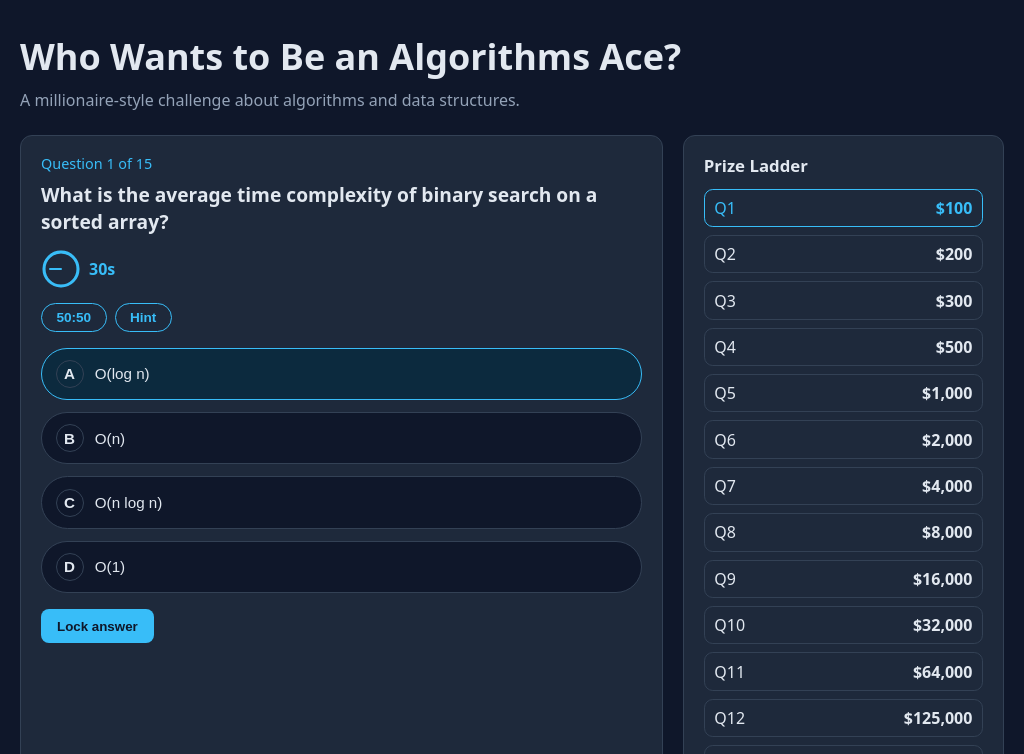
Scenario: AlgorithmsQuizPage › advances when the correct answer is locked
expect the heading "average time complexity of binary search" is shown: met, box x1=41 y1=181 x2=597 y2=235
Click the button "A O(log n)".
click(122, 374)  # box x1=41 y1=348 x2=642 y2=400
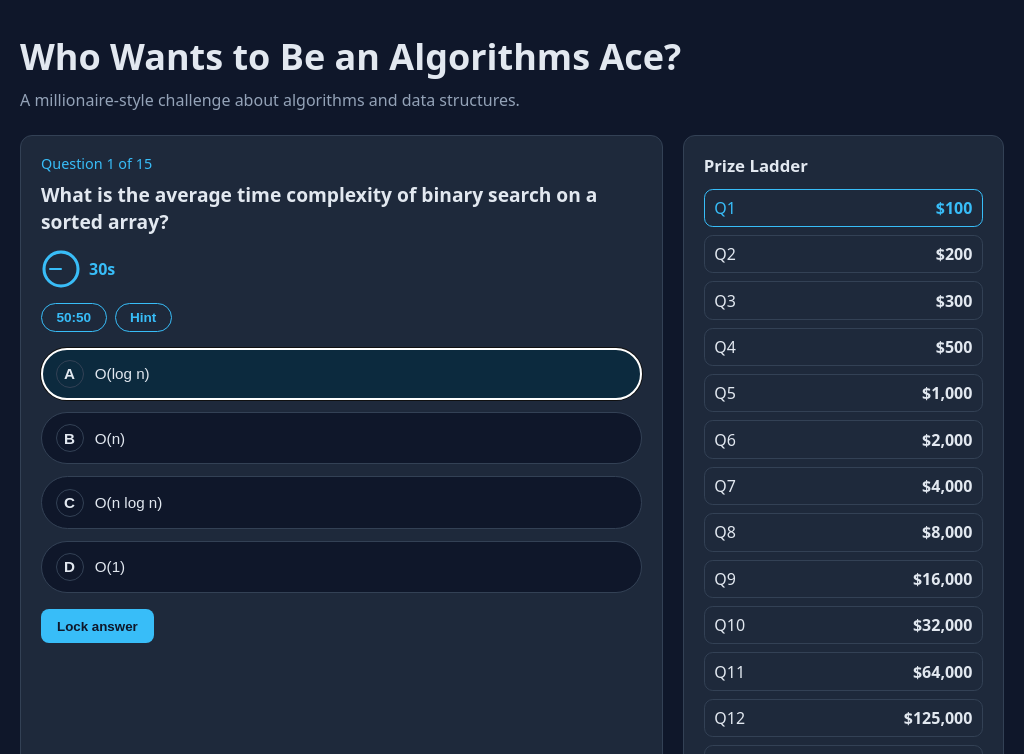
Click the button "Lock answer".
click(97, 626)  # box x1=41 y1=609 x2=154 y2=643
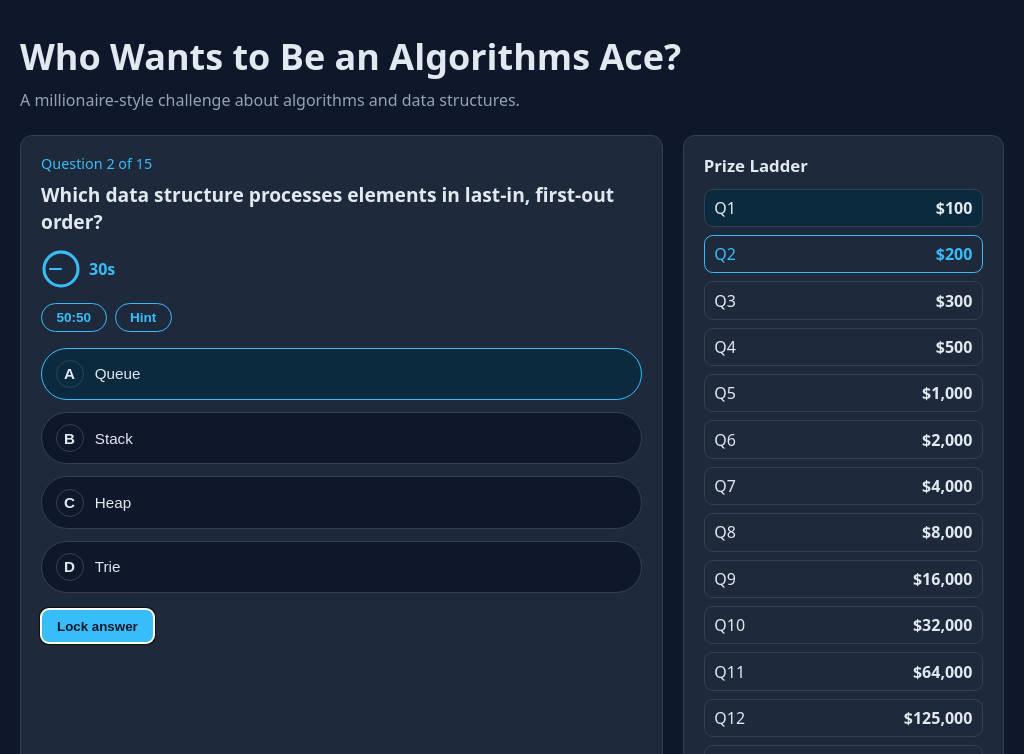
expect the text "Question 2 of 15" is shown: met, box x1=41 y1=154 x2=152 y2=173
expect the heading "last-in, first-out order" is shown: met, box x1=41 y1=181 x2=614 y2=235
